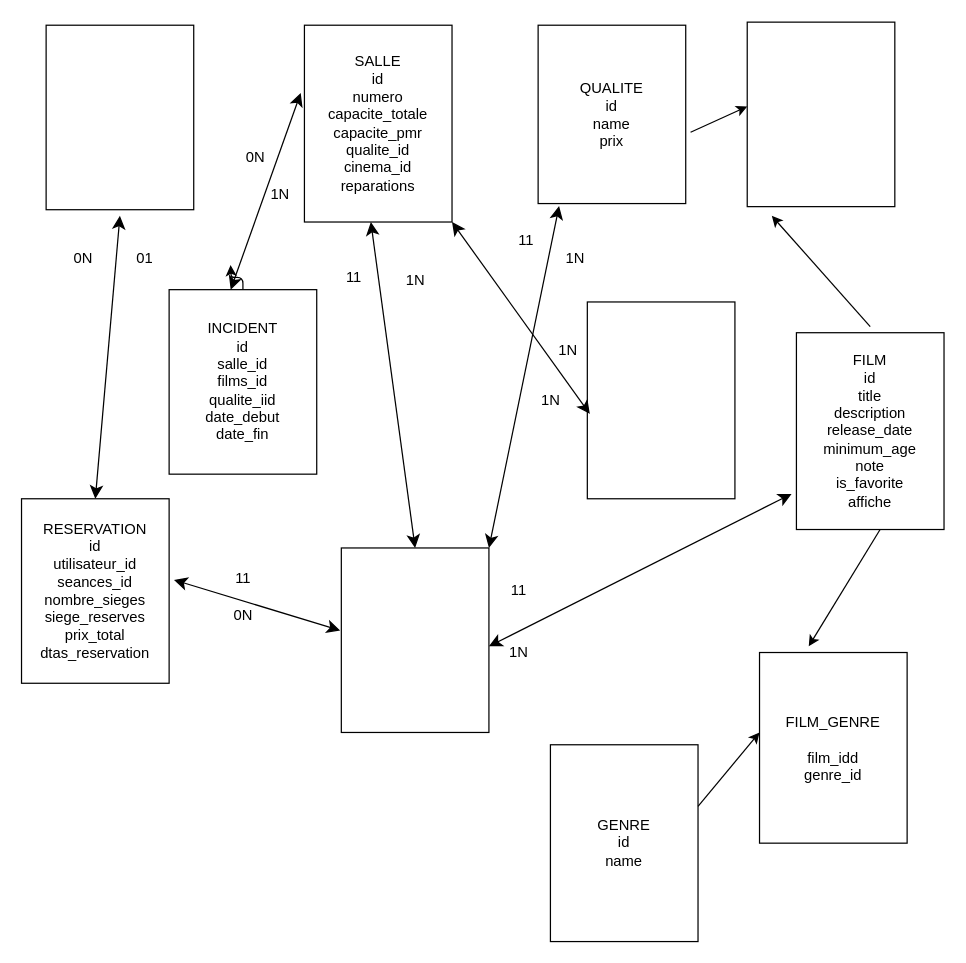
This 966x963 diagram has some shape labels left out. Here are the shapes that lost their labels. From the top down, the centre of each, then its label:
the point at 119,117: UTILISATEUR id login password prenom nom role
the point at 820,114: QUALITE_FILM qualite_id film_id
the point at 660,400: CINEMA id nom adresse
the point at 414,639: SEANCE id salle_id films_id qualite_id date_debut date_fin
